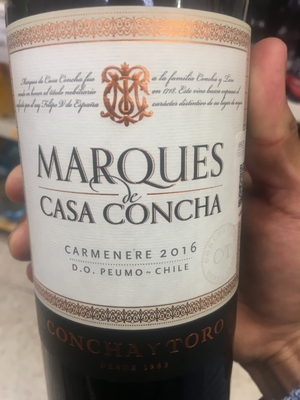marques de casa concha carmenere: (8, 5, 263, 400)
